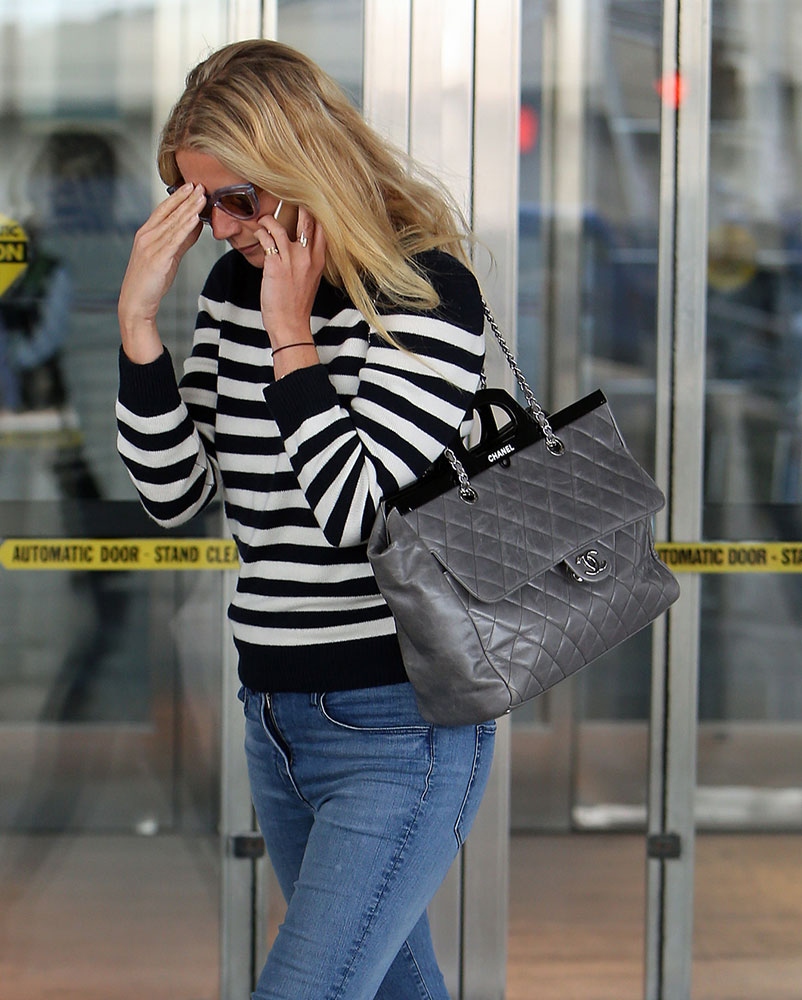channel: (372, 414, 720, 716), (555, 542, 627, 591)
